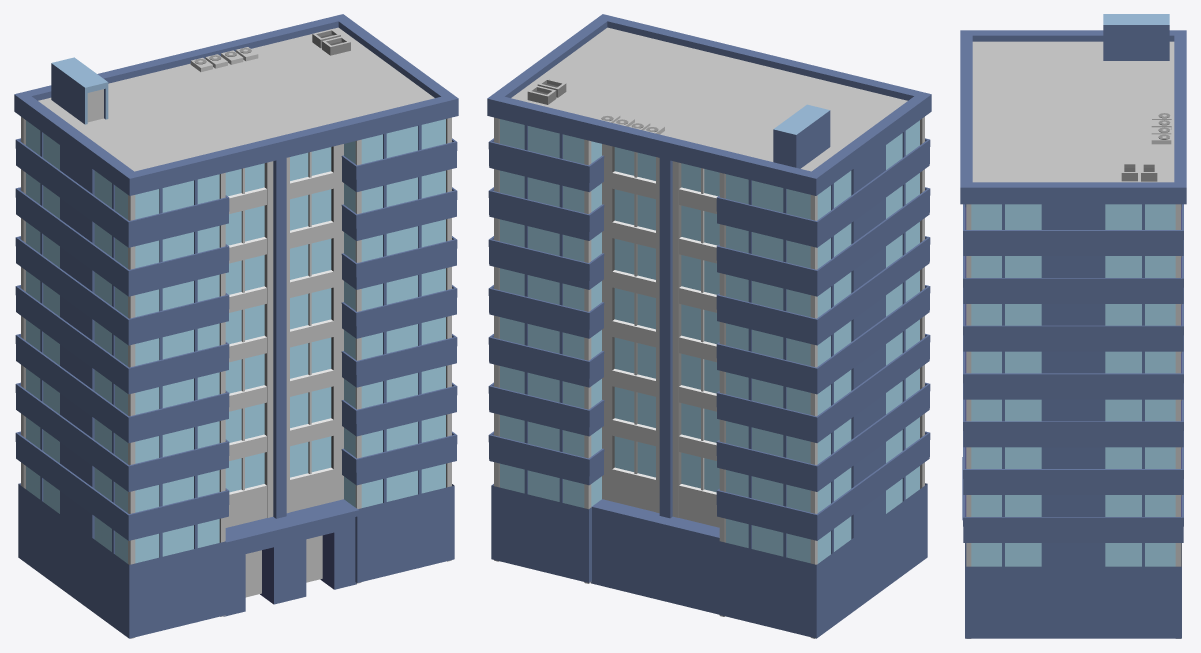
File: house_high_004.fbx
3 renders of one model, left to right at view 1: azimuth 30°, elevation 25°; view 2: azimuth 150°, elevation 25°; view 3: azimuth 270°, elevation 25°, orthographic. The views are drawn at different scales.
Parts seen in each view (by area): view 1: house_high_004; view 2: house_high_004; view 3: house_high_004.
Part boxes in pixels (<box>): house_high_004: <box>14,14,458,638</box>; house_high_004: <box>487,14,931,638</box>; house_high_004: <box>960,14,1186,638</box>.
Bounding box in the file's own units: 1524 × 2194 × 927.
